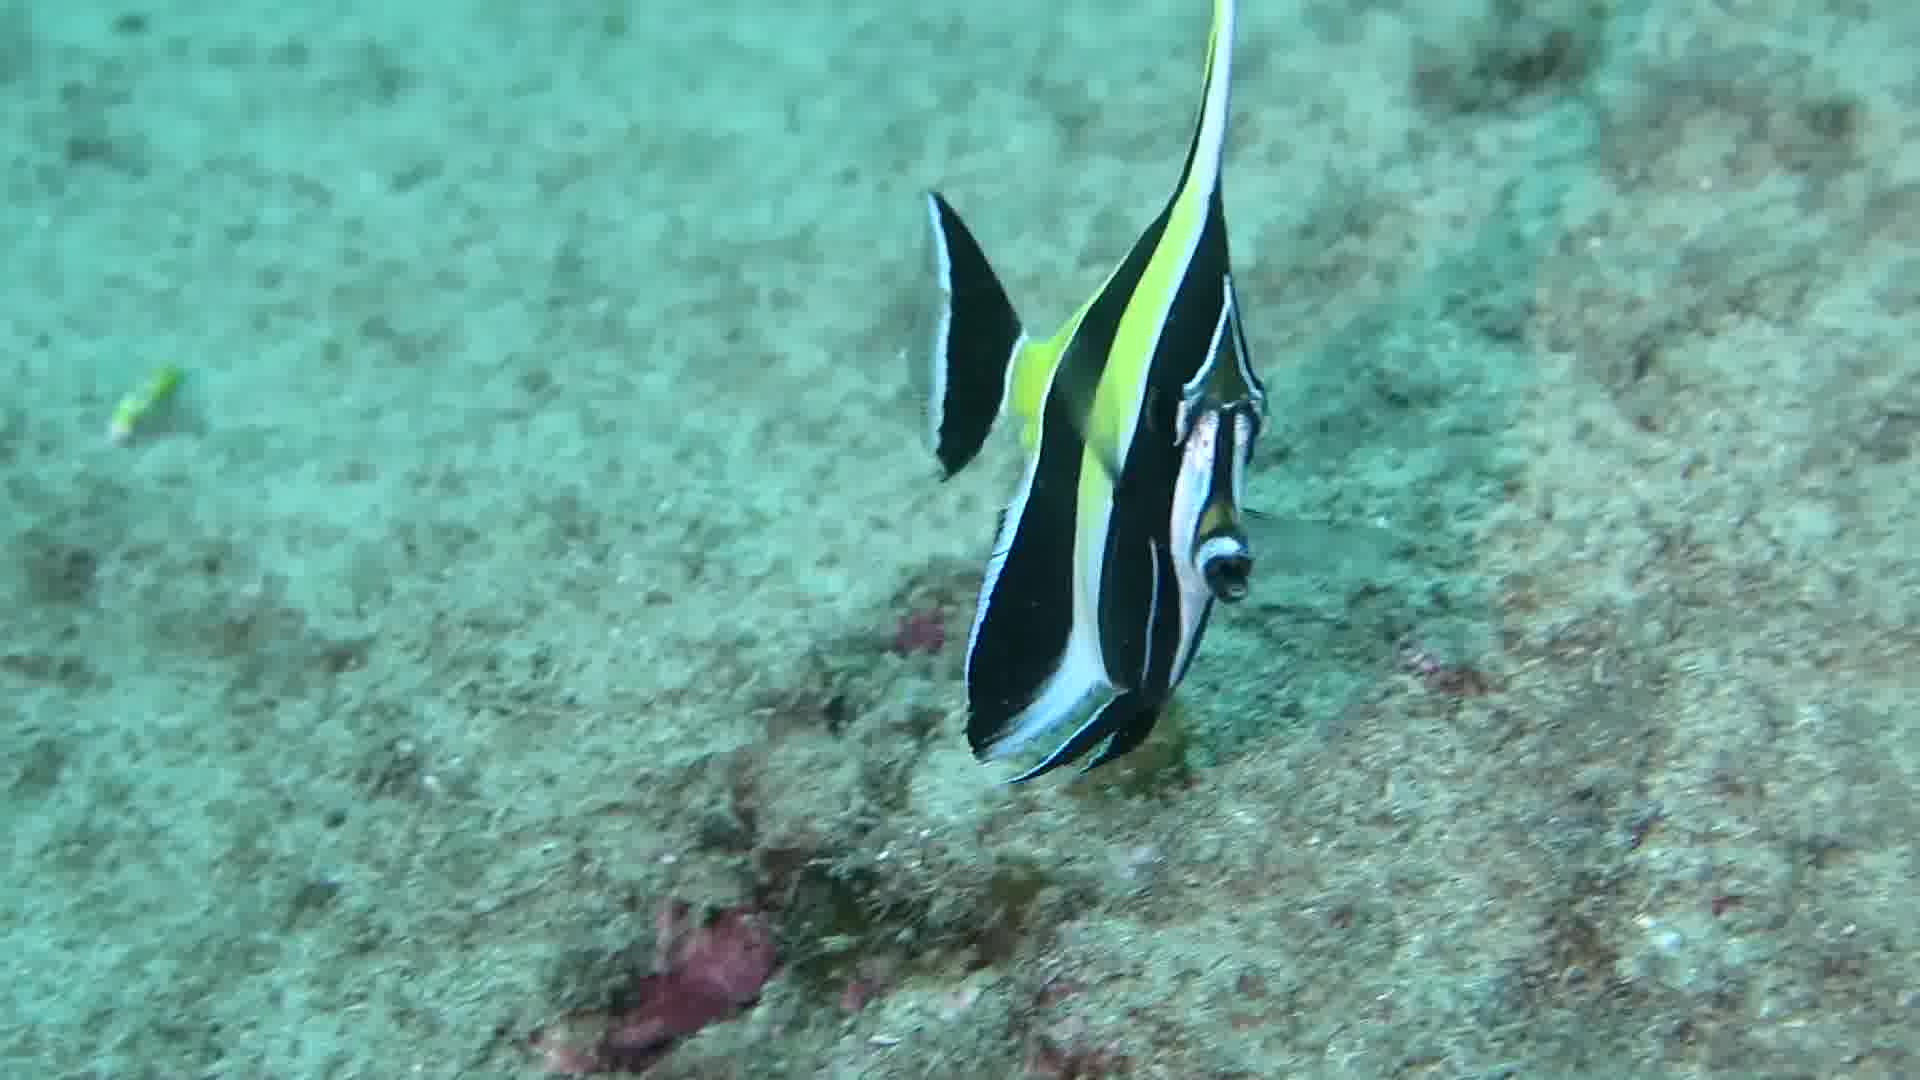Zanclus cornutus: (803, 174, 1458, 808)
